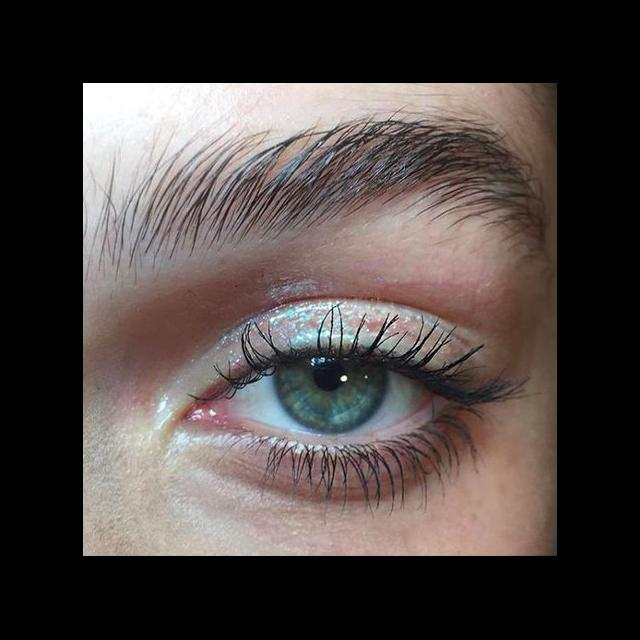eye: (226, 350, 438, 442)
iris: (272, 357, 390, 433)
